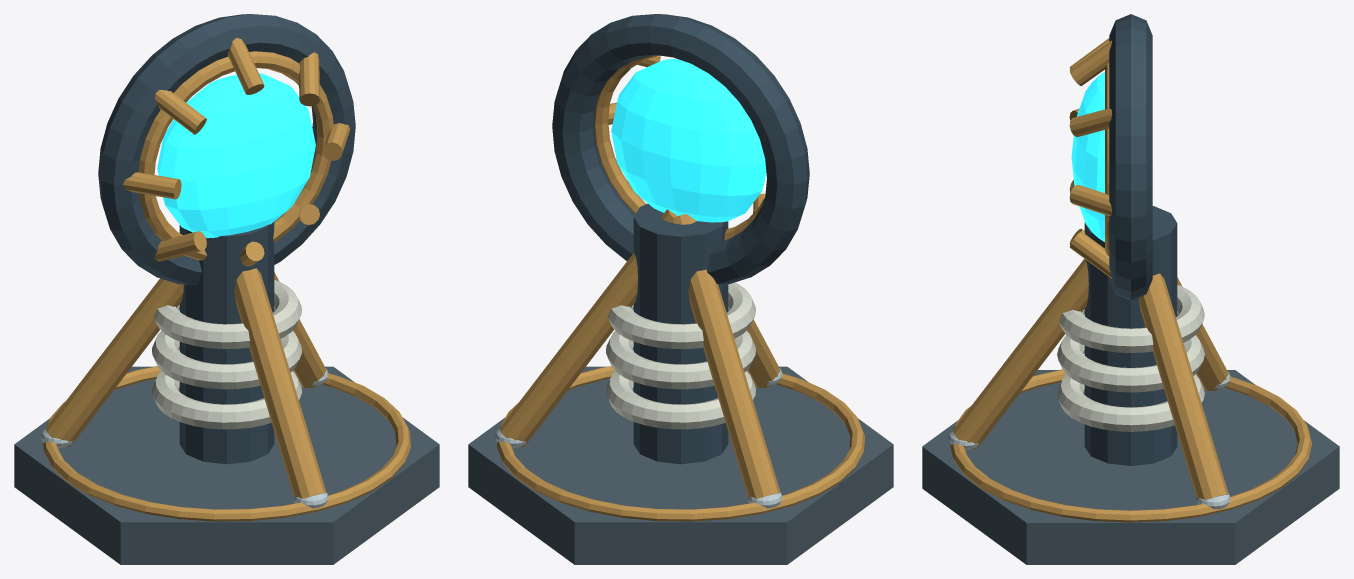
File: aegis-1.glb
3 views of the same model, side by side, from view 1: azimuth 30°, elevation 25°; view 2: azimuth 150°, elevation 25°; view 3: azimuth 270°, elevation 25° (orthographic).
Visible parts, largest first — view 1: Base - Carved dark stone, Base - Brushed electrum.003, Core - Blue tempered steel.003, Core - Aegis crystal, Core - Brushed electrum.003, Base - Blue tempered steel.003, Base - Royal ivory enamel.003, Base - Edge steel.003; view 2: Base - Carved dark stone, Core - Blue tempered steel.003, Base - Brushed electrum.003, Core - Aegis crystal, Base - Blue tempered steel.003, Base - Royal ivory enamel.003, Core - Brushed electrum.003, Base - Edge steel.003; view 3: Base - Carved dark stone, Base - Brushed electrum.003, Core - Blue tempered steel.003, Base - Royal ivory enamel.003, Base - Blue tempered steel.003, Core - Brushed electrum.003, Core - Aegis crystal, Base - Edge steel.003.
Boxes of the visible parts, x1,y1,x2,y2 form: Base - Carved dark stone: (14,366,439,564); Base - Brushed electrum.003: (43,268,410,521); Core - Blue tempered steel.003: (98,14,355,284); Core - Aegis crystal: (157,73,315,238); Core - Brushed electrum.003: (122,38,350,266); Base - Blue tempered steel.003: (179,222,274,464); Base - Royal ivory enamel.003: (152,280,301,429); Base - Edge steel.003: (41,368,328,508); Base - Carved dark stone: (468,366,893,564); Core - Blue tempered steel.003: (552,14,809,284); Base - Brushed electrum.003: (497,209,864,521); Core - Aegis crystal: (611,59,766,222); Base - Blue tempered steel.003: (633,203,728,464); Base - Royal ivory enamel.003: (606,282,755,429); Core - Brushed electrum.003: (594,55,765,240); Base - Edge steel.003: (495,368,782,508); Base - Carved dark stone: (922,370,1339,564); Base - Brushed electrum.003: (950,259,1311,522); Core - Blue tempered steel.003: (1109,14,1152,300); Base - Royal ivory enamel.003: (1057,285,1204,431); Base - Blue tempered steel.003: (1084,206,1177,465); Core - Brushed electrum.003: (1069,38,1112,278); Core - Aegis crystal: (1071,72,1104,241); Base - Edge steel.003: (948,372,1230,509).
Bounding box in the file's own units: 1.25 × 1.75 × 1.44.
